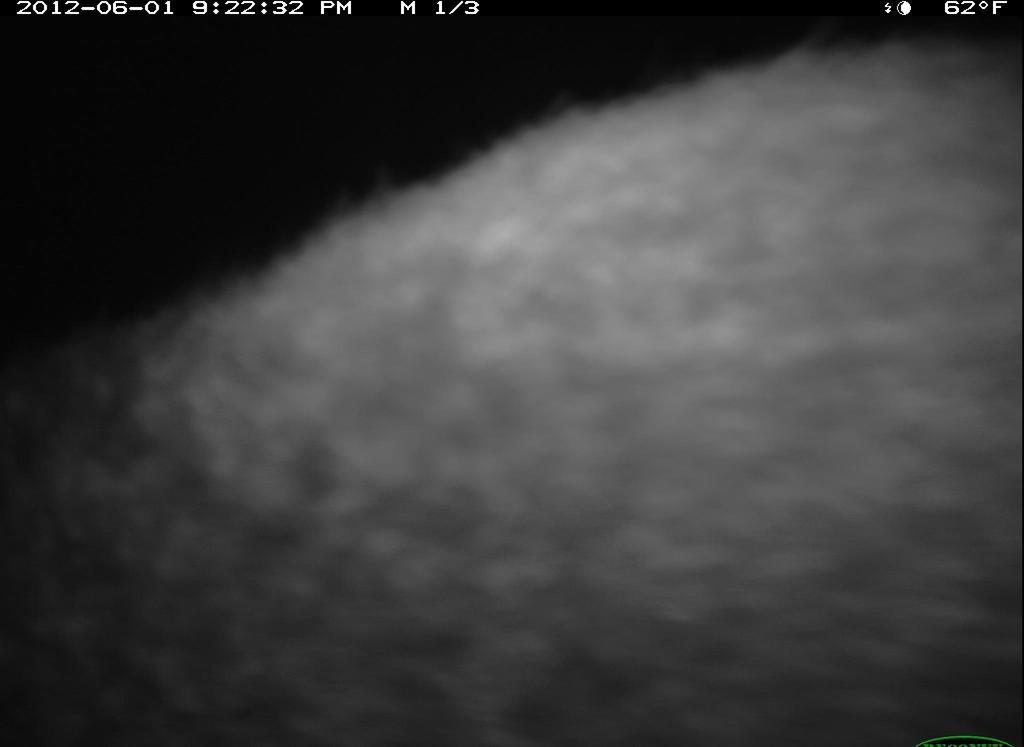raccoon: (6, 25, 1008, 747)
